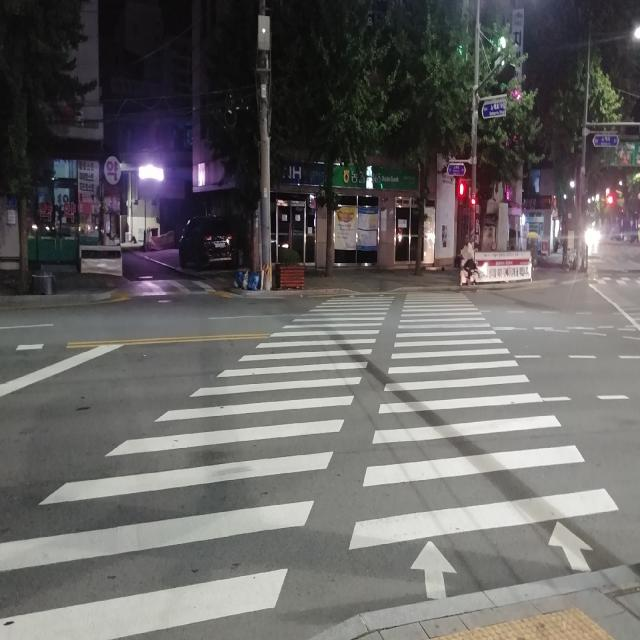빨간불: (458, 181, 468, 216)
횡단보도: (0, 290, 620, 639)
